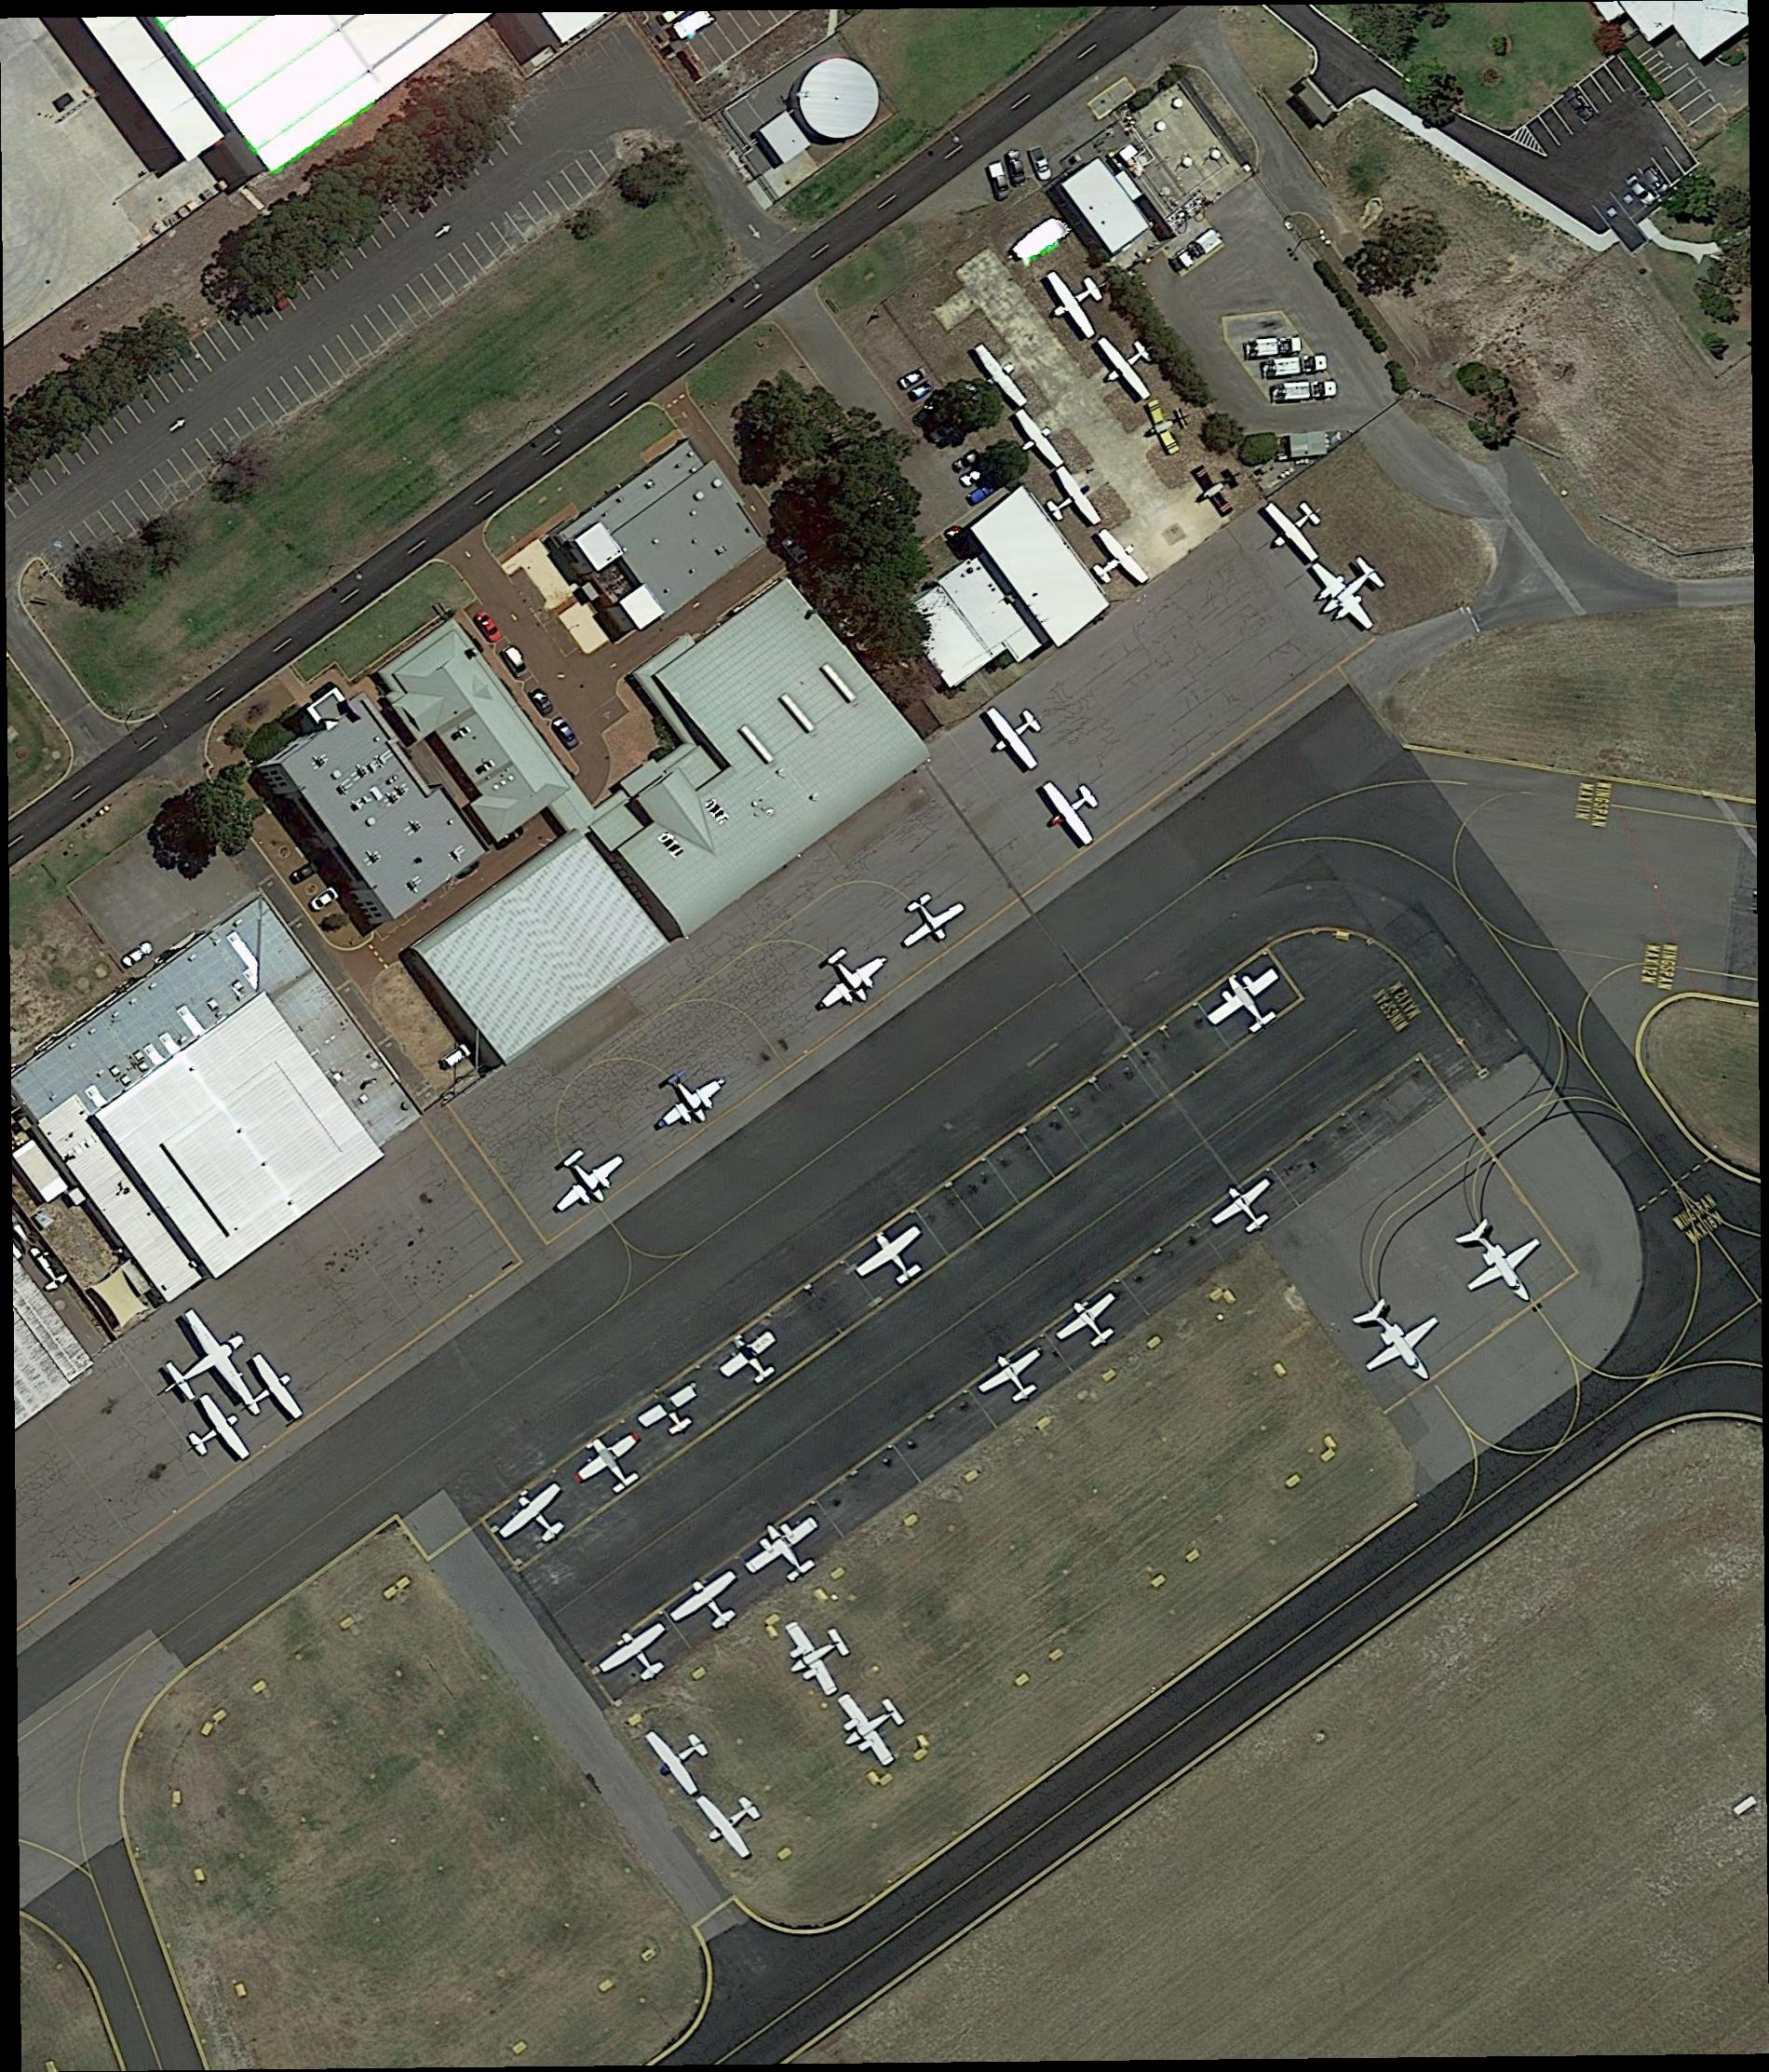plane: (130, 1297, 276, 1446), (1341, 1275, 1462, 1405), (1441, 1202, 1560, 1326), (1293, 533, 1404, 647), (821, 1672, 923, 1777), (532, 1128, 635, 1230), (793, 928, 897, 1026), (634, 1054, 737, 1153), (1197, 953, 1297, 1049), (212, 1349, 311, 1444), (772, 1605, 869, 1700), (1027, 760, 1118, 860), (1246, 477, 1337, 577), (567, 1418, 658, 1514), (486, 1474, 583, 1565), (739, 1505, 834, 1597), (848, 1212, 941, 1304), (172, 1384, 256, 1483), (969, 691, 1058, 781), (597, 1612, 684, 1700), (637, 1714, 727, 1800), (688, 1779, 774, 1867), (883, 881, 976, 961), (665, 1561, 753, 1646), (1051, 1284, 1137, 1368), (974, 1339, 1060, 1423), (1034, 256, 1114, 344), (1086, 319, 1165, 407), (709, 1318, 791, 1400), (1202, 1168, 1286, 1246), (635, 1372, 711, 1451), (1079, 523, 1155, 600), (1035, 463, 1107, 544), (997, 405, 1071, 481), (963, 340, 1034, 419), (1185, 451, 1251, 525), (1135, 391, 1199, 458)
